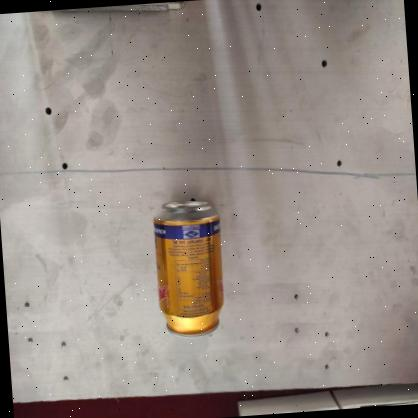can: (148, 197, 226, 341)
